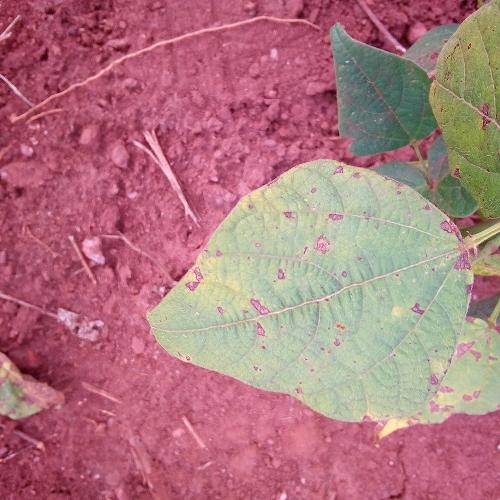hawar: (239, 215, 424, 364)
